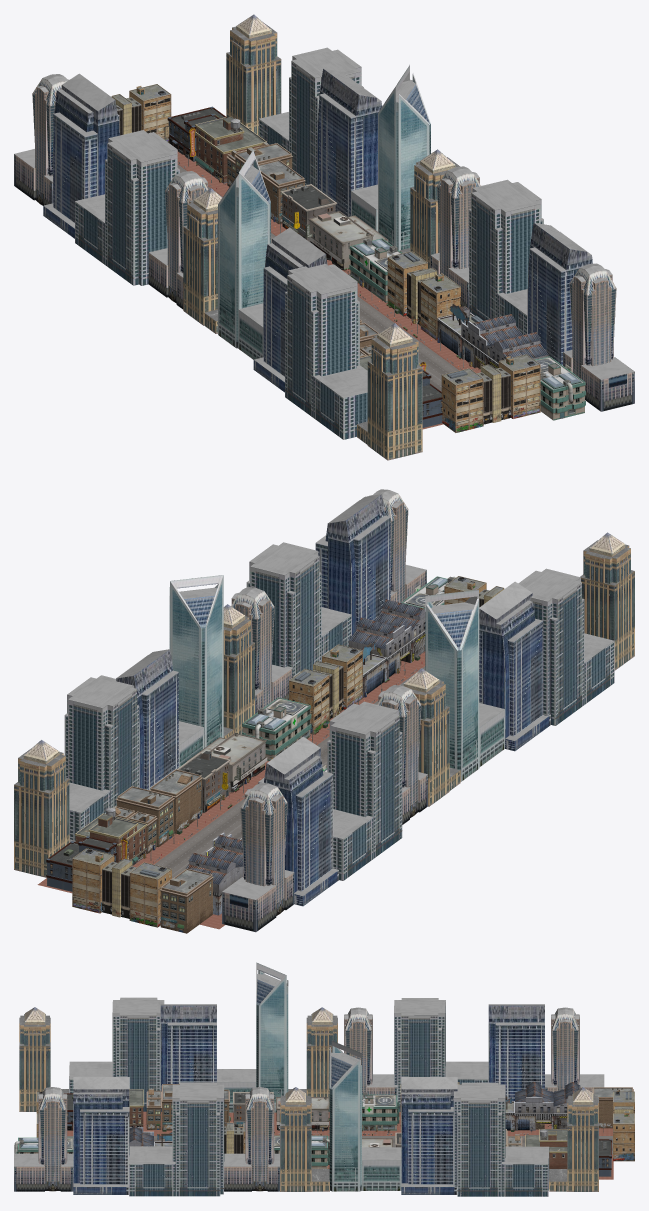
The model's file is changjing.fbx.
The picture shows the model from 3 angles, top to bottom: view 1: azimuth 30°, elevation 25°; view 2: azimuth 150°, elevation 25°; view 3: azimuth 270°, elevation 25°; orthographic projection. The views are drawn at different scales.
Parts seen in each view (by area): view 1: qwe045, qwe046, group2, fanzi03, fanzi04, fanzi02, fanzi06, pCube13, fanzi021, fanzi01, fanzi08, pCube12 (+3 smaller); view 2: qwe045, qwe046, group2, fanzi03, fanzi04, pCube13, fanzi01, fanzi09, pCube12, fanzi02, fanzi06, fanzi05 (+3 smaller); view 3: qwe046, qwe045, group2, fanzi02, pCube14, fanzi01, fanzi03, fanzi04, fanzi021, fanzi07.
Part boxes in pixels (x1,y1,x2,y2): qwe045: [14, 73, 422, 460]; qwe046: [226, 14, 634, 411]; group2: [111, 84, 540, 432]; fanzi03: [437, 303, 548, 369]; fanzi04: [387, 251, 460, 340]; fanzi02: [189, 116, 266, 183]; fanzi06: [305, 211, 388, 270]; pCube13: [177, 150, 480, 373]; fanzi021: [535, 356, 585, 420]; fanzi01: [349, 238, 402, 302]; fanzi08: [280, 184, 337, 241]; pCube12: [177, 164, 458, 391]; qwe045: [222, 532, 634, 932]; qwe046: [14, 489, 426, 877]; group2: [72, 576, 504, 933]; fanzi03: [348, 599, 425, 697]; fanzi04: [289, 644, 362, 734]; pCube13: [37, 651, 425, 893]; fanzi01: [242, 697, 311, 760]; fanzi09: [112, 786, 174, 853]; pCube12: [154, 666, 425, 877]; fanzi02: [75, 807, 147, 865]; fanzi06: [186, 732, 267, 792]; fanzi05: [149, 769, 202, 834]; qwe046: [14, 1041, 598, 1196]; qwe045: [19, 962, 604, 1112]; group2: [36, 1082, 634, 1161]; fanzi02: [525, 1128, 567, 1168]; pCube14: [67, 1111, 612, 1135]; fanzi01: [274, 1135, 329, 1168]; fanzi03: [129, 1125, 172, 1146]; fanzi04: [224, 1122, 245, 1153]; fanzi021: [14, 1137, 73, 1153]; fanzi07: [599, 1139, 611, 1176].
Bounding box in the file's own units: 13838 × 8676 × 35448.
Materials: 29 (27 with a texture image).
